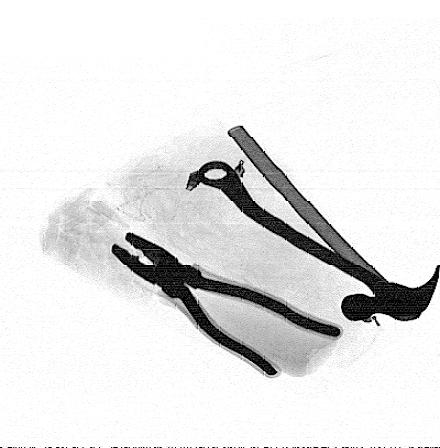Hammer: (224, 121, 439, 321)
Pliers: (107, 233, 343, 378)
Wrench: (194, 159, 426, 322)
